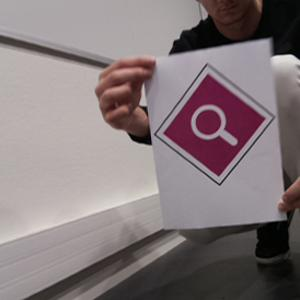search: (154, 63, 276, 184)
